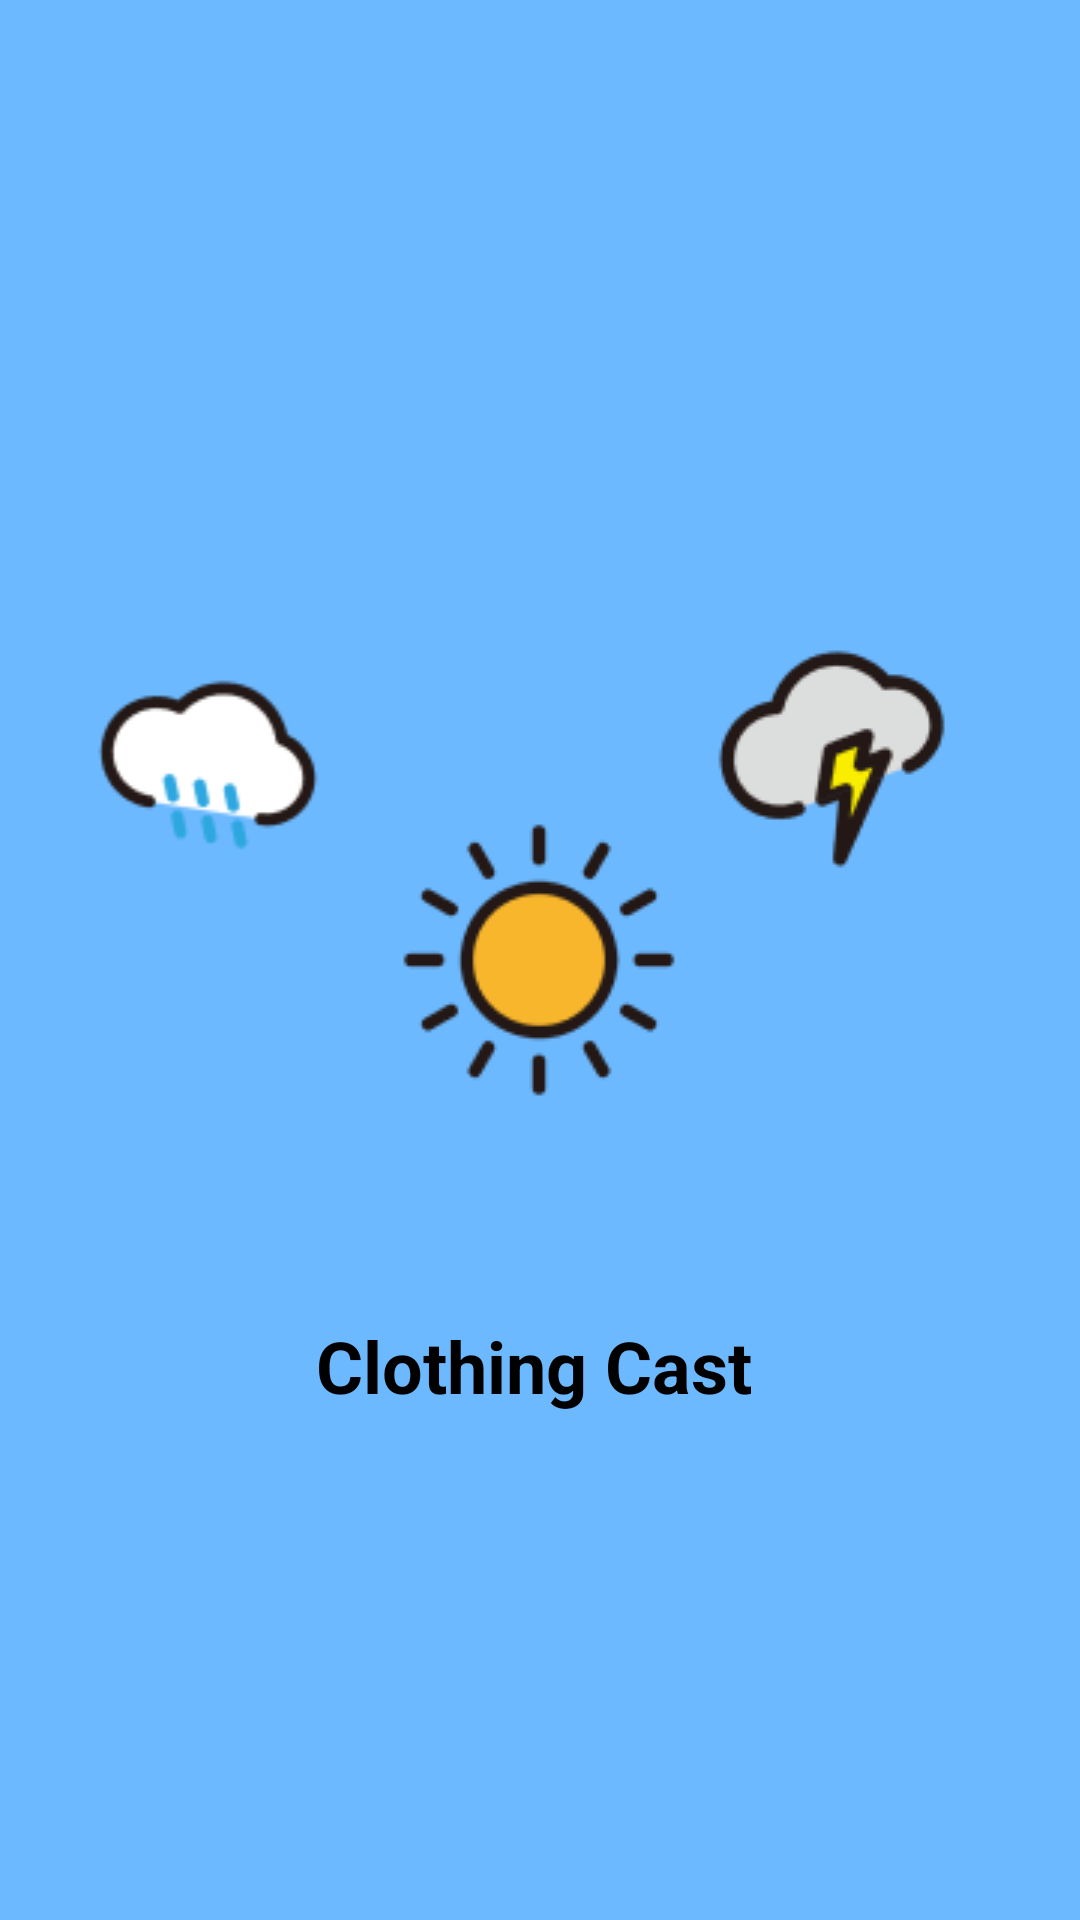

Locate icon controls on the screen. Image size 1080×1920, boxes as (x1, y1, x2, y2).
rain: (99, 680, 318, 849)
sun: (403, 824, 675, 1096)
